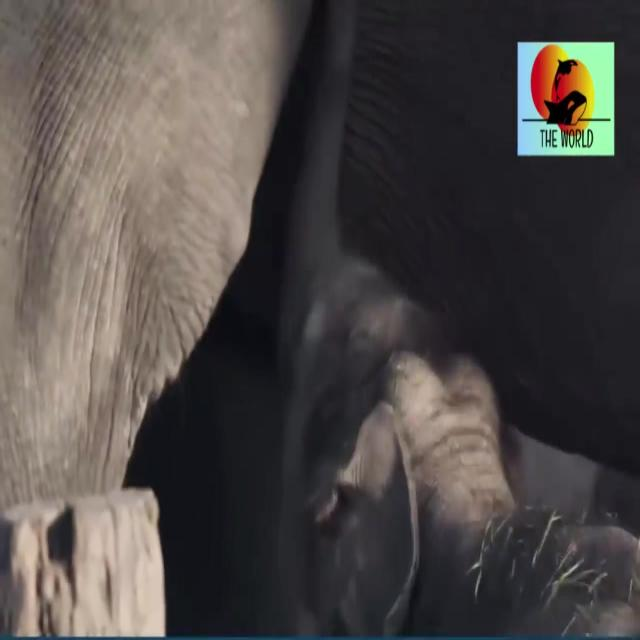Elephant: (0, 20, 447, 490), (302, 286, 636, 640)
